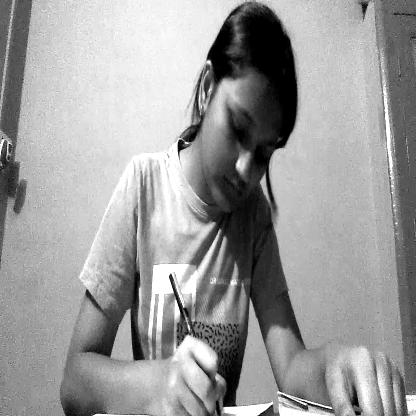Distracted: (202, 61, 293, 220)
